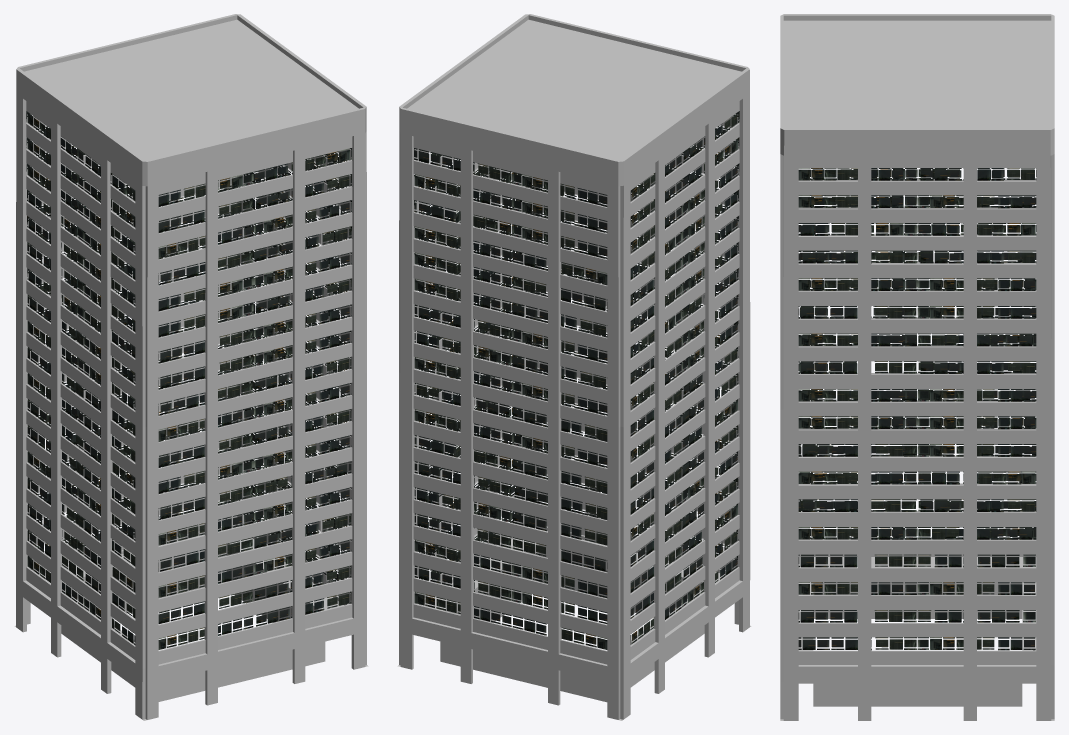
3 renders of one model, left to right at view 1: azimuth 30°, elevation 25°; view 2: azimuth 150°, elevation 25°; view 3: azimuth 270°, elevation 25°, orthographic. The views are drawn at different scales.
Visible parts, largest first — view 1: EC-014; view 2: EC-014; view 3: EC-014.
Boxes of the visible parts, left/top/right/bottom form: EC-014: left=14, top=14, right=368, bottom=720; EC-014: left=397, top=14, right=751, bottom=720; EC-014: left=780, top=14, right=1054, bottom=720.
Size of what is drawn, in the model's own units: 27.02 by 64.18 by 27.02.
